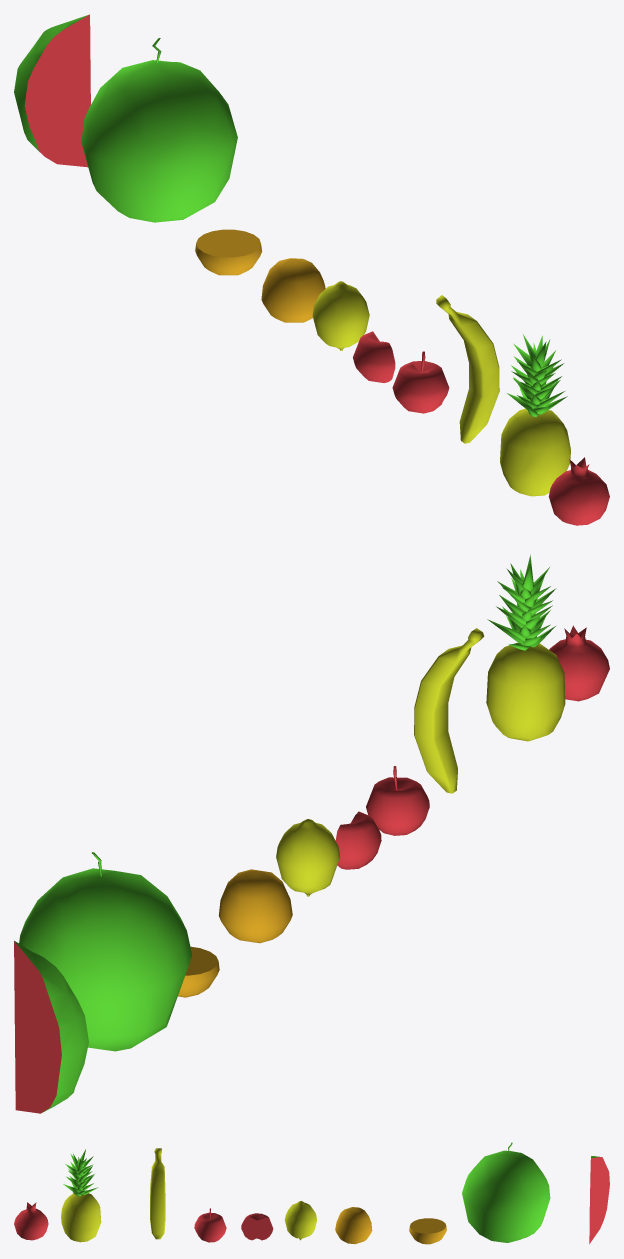
File: item05_fruits.fbx
The picture shows the model from 3 angles, top to bottom: view 1: azimuth 30°, elevation 25°; view 2: azimuth 150°, elevation 25°; view 3: azimuth 270°, elevation 25°; orthographic projection. The views are drawn at different scales.
Parts seen in each view (by area): view 1: FP_watermelon, FP_watermelon_slice, FP_pineapple, FP_banana, FP_orange, FP_lemon, FP_pomegranate, FP_orange_half, FP_apple, FP_apple_half; view 2: FP_watermelon, FP_watermelon_slice, FP_pineapple, FP_banana, FP_orange, FP_lemon, FP_apple, FP_pomegranate, FP_apple_half, FP_orange_half; view 3: FP_watermelon, FP_pineapple, FP_watermelon_slice, FP_banana, FP_orange, FP_lemon, FP_pomegranate, FP_orange_half, FP_apple, FP_apple_half.
Part boxes in pixels (bbox=[...]): FP_watermelon: bbox=[81, 38, 237, 222]; FP_watermelon_slice: bbox=[14, 14, 90, 167]; FP_pineapple: bbox=[500, 334, 570, 496]; FP_banana: bbox=[436, 295, 499, 443]; FP_orange: bbox=[261, 258, 325, 322]; FP_lemon: bbox=[312, 281, 369, 350]; FP_pomegranate: bbox=[548, 457, 609, 525]; FP_orange_half: bbox=[195, 229, 262, 275]; FP_apple: bbox=[392, 351, 449, 413]; FP_apple_half: bbox=[353, 331, 395, 382]; FP_watermelon: bbox=[19, 852, 192, 1051]; FP_watermelon_slice: bbox=[14, 941, 88, 1113]; FP_pineapple: bbox=[486, 554, 565, 741]; FP_banana: bbox=[414, 628, 484, 793]; FP_orange: bbox=[218, 869, 292, 943]; FP_lemon: bbox=[276, 819, 340, 896]; FP_apple: bbox=[366, 766, 429, 835]; FP_pomegranate: bbox=[549, 625, 609, 701]; FP_apple_half: bbox=[335, 811, 381, 869]; FP_orange_half: bbox=[178, 946, 219, 997]; FP_watermelon: bbox=[462, 1142, 550, 1242]; FP_pineapple: bbox=[61, 1149, 101, 1242]; FP_watermelon_slice: bbox=[589, 1156, 609, 1243]; FP_banana: bbox=[150, 1148, 165, 1239]; FP_orange: bbox=[335, 1207, 372, 1244]; FP_lemon: bbox=[284, 1201, 316, 1240]; FP_pomegranate: bbox=[14, 1202, 48, 1240]; FP_orange_half: bbox=[409, 1218, 446, 1244]; FP_apple: bbox=[194, 1208, 226, 1242]; FP_apple_half: bbox=[241, 1213, 273, 1240].
Size of the model in its own units: 13.32 by 17.11 by 90.97.
